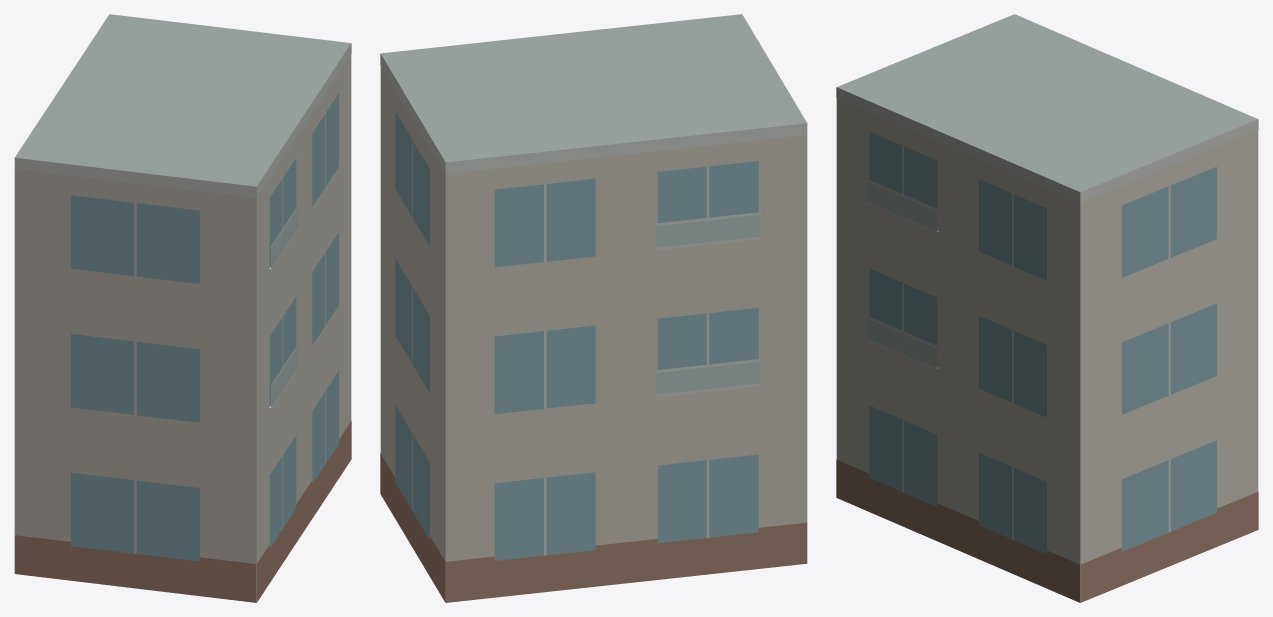
File: survey-upis-32982321.glb
3 renders of one model, left to right at view 1: azimuth 30°, elevation 25°; view 2: azimuth 150°, elevation 25°; view 3: azimuth 270°, elevation 25°, orthographic. The views are drawn at different scales.
Visible parts, largest first — view 1: survey-upis-32982321.tmp; view 2: survey-upis-32982321.tmp; view 3: survey-upis-32982321.tmp.
Boxes of the visible parts, bbox=[...] form: survey-upis-32982321.tmp: bbox=[14, 14, 351, 602]; survey-upis-32982321.tmp: bbox=[380, 14, 807, 602]; survey-upis-32982321.tmp: bbox=[836, 14, 1258, 602].
Bounding box in the file's own units: 8.52 × 9.15 × 8.52.
